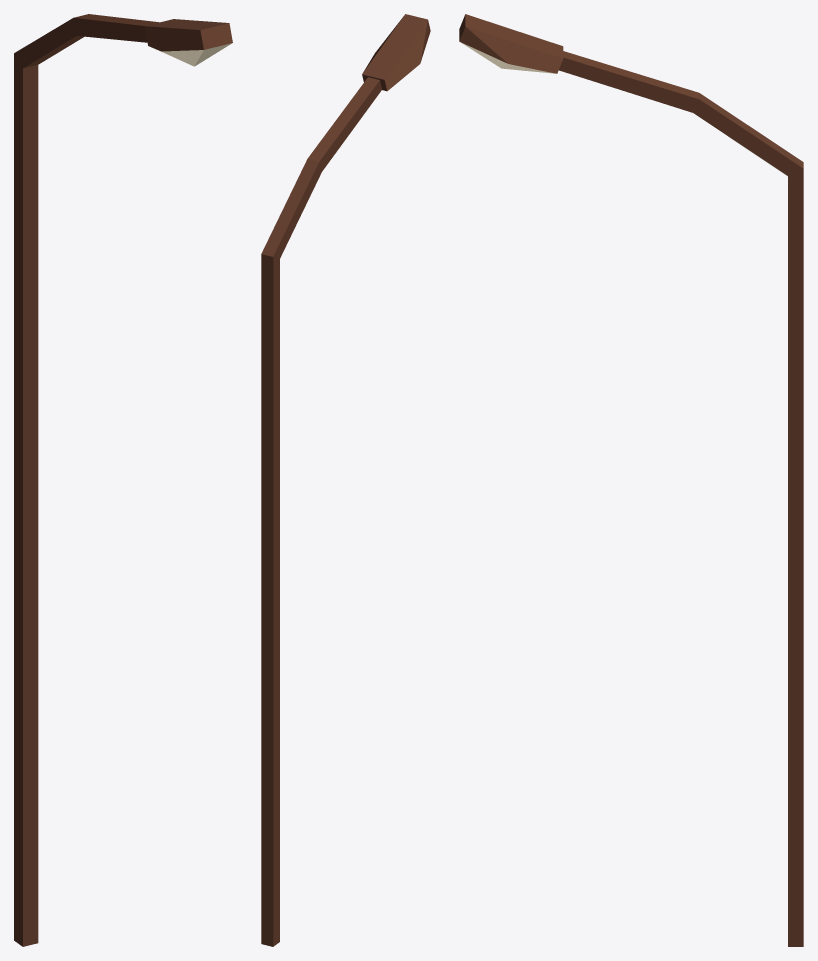
Rendered from Prop_Light_Road_A.fbx.
The picture shows the model from 3 angles, left to right: view 1: azimuth 30°, elevation 25°; view 2: azimuth 150°, elevation 25°; view 3: azimuth 270°, elevation 25°; orthographic projection. The views are drawn at different scales.
Parts seen in each view (by area): view 1: Prop_Light_Road_A; view 2: Prop_Light_Road_A; view 3: Prop_Light_Road_A.
Boxes of the visible parts, x1,y1,x2,y2 form: Prop_Light_Road_A: (14,14,232,946); Prop_Light_Road_A: (261,14,430,946); Prop_Light_Road_A: (459,14,803,946).
Size of the model in its own units: 56.9 by 985 by 333.
